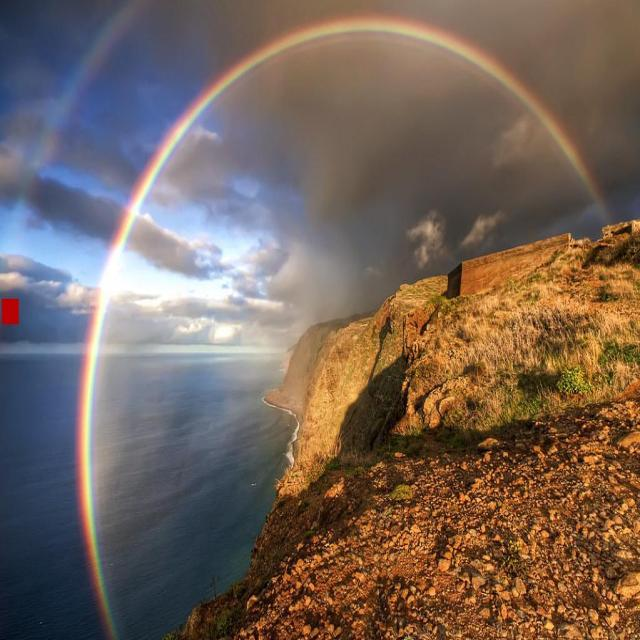RedSquare: (1, 292, 21, 327)
